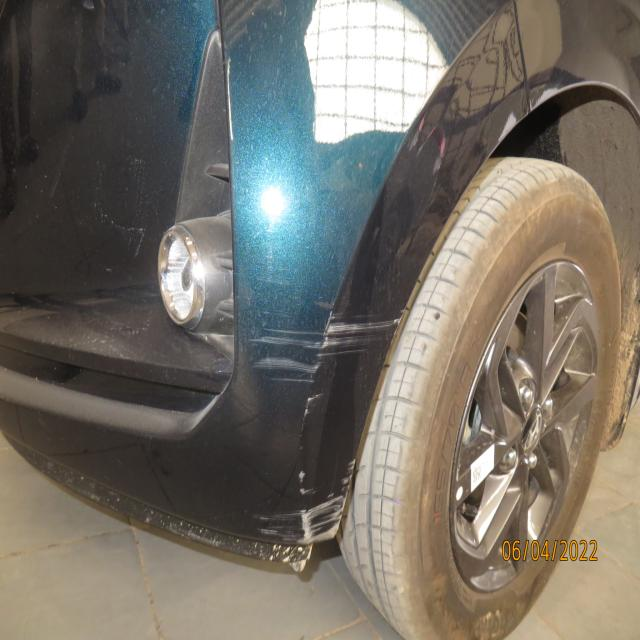damage: (251, 259, 424, 413), (258, 448, 356, 563), (493, 74, 572, 147)
